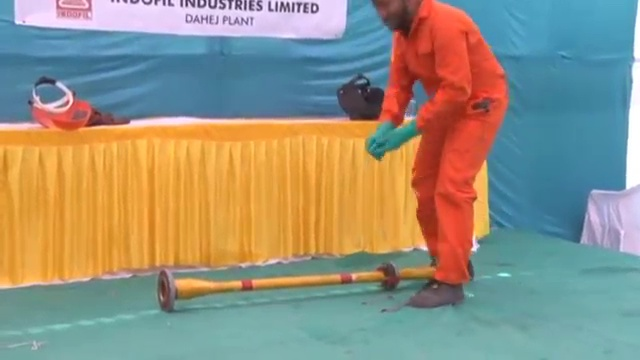helmet_off: (369, 1, 418, 35)
person: (351, 1, 510, 311)
